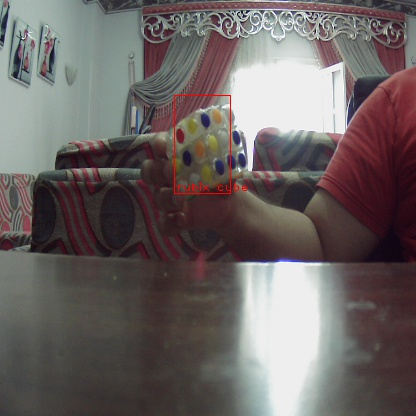Rubix Cube: (164, 113, 248, 196)
